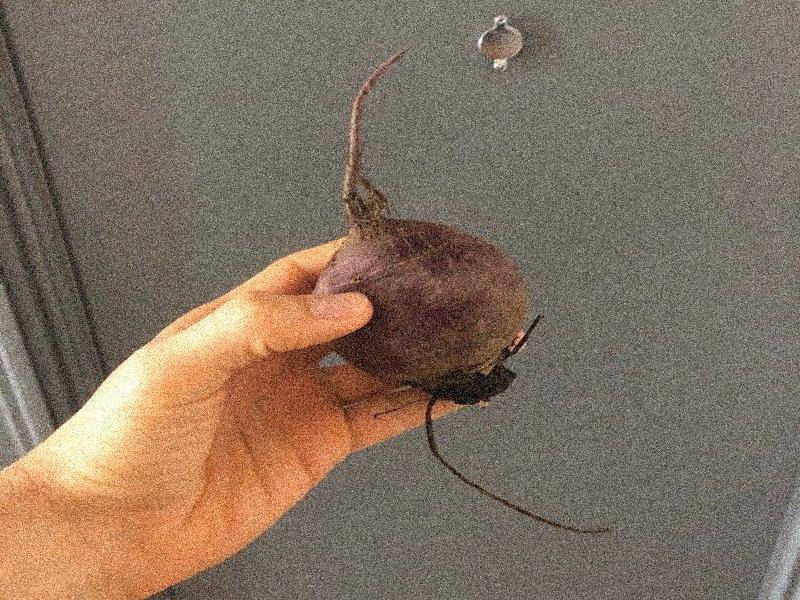Beet: (312, 49, 614, 533)
